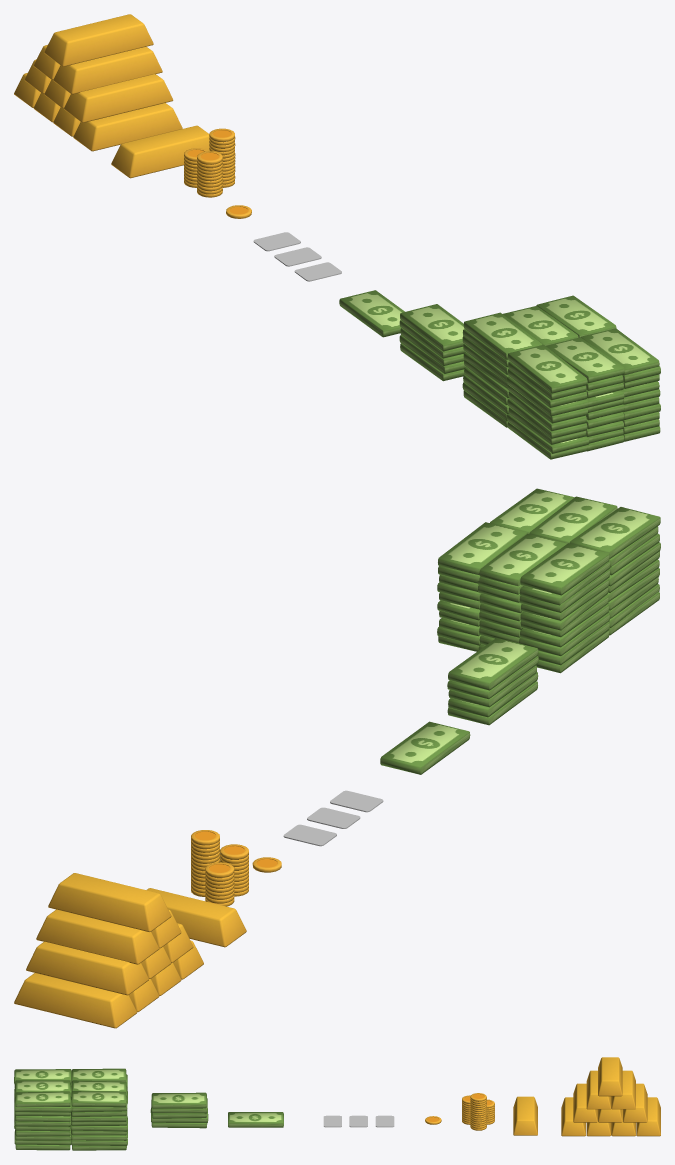
Rendered from Rubber_Rush.fbx.
The picture shows the model from 3 angles, top to bottom: view 1: azimuth 30°, elevation 25°; view 2: azimuth 150°, elevation 25°; view 3: azimuth 270°, elevation 25°; orthographic projection. The views are drawn at different scales.
Parts seen in each view (by area): view 1: Money-2, Gold-bar-1, Money-1, Gold-bar, Gold-1, Money; view 2: Money-2, Gold-bar-1, Money-1, Gold-1, Gold-bar, Money; view 3: Money-2, Gold-bar-1, Money-1, Gold-1, Gold-bar, Money, Maca-As-Red, Maca-As black, Maca-As-Blue.
Boxes of the visible parts, x1,y1,x2,y2 form: Money-2: (462, 295, 660, 459); Gold-bar-1: (14, 14, 182, 151); Money-1: (399, 304, 465, 381); Gold-bar: (111, 125, 209, 178); Gold-1: (184, 128, 235, 197); Money: (339, 290, 404, 337); Money-2: (437, 488, 660, 673); Gold-bar-1: (14, 873, 203, 1028); Money-1: (447, 638, 538, 725); Gold-1: (191, 830, 248, 906); Gold-bar: (146, 888, 246, 947); Money: (380, 721, 470, 774); Money-2: (14, 1068, 127, 1150); Gold-bar-1: (561, 1057, 660, 1136); Money-1: (150, 1092, 208, 1128); Gold-1: (462, 1093, 494, 1130); Gold-bar: (513, 1096, 537, 1135); Money: (228, 1112, 283, 1127); Maca-As-Red: (375, 1115, 394, 1127); Maca-As black: (349, 1115, 367, 1127); Maca-As-Blue: (323, 1115, 341, 1127).
Size of the model in its own units: 144 by 85.28 by 926.
